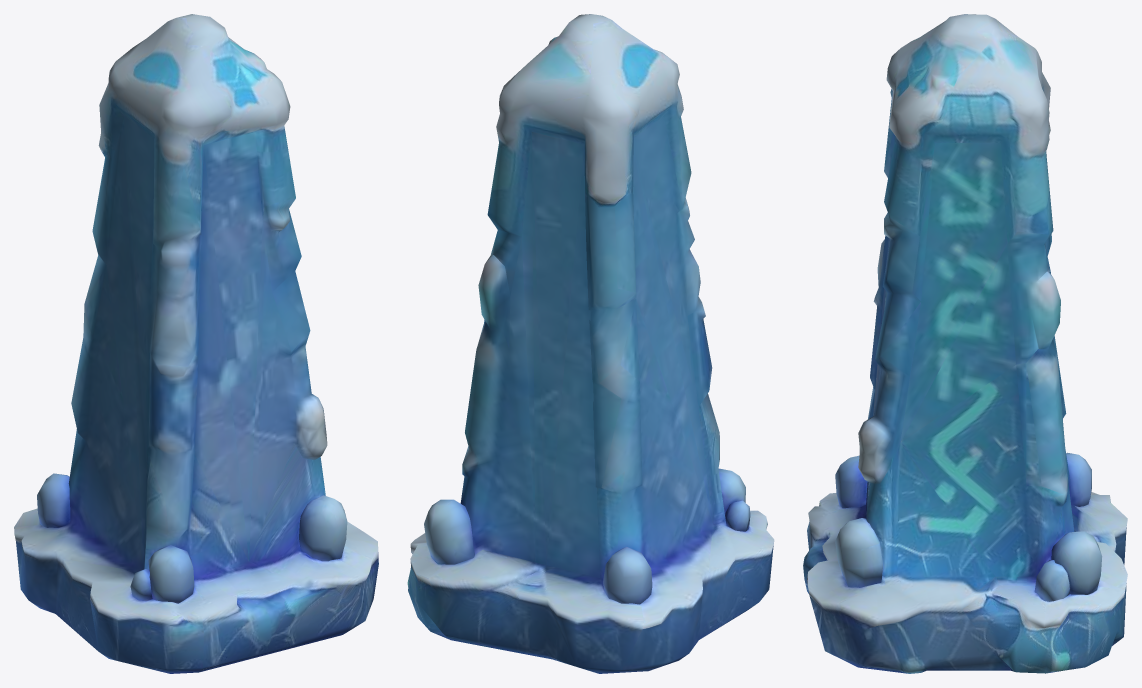
Rendered from obelisk.glb.
The picture shows the model from 3 angles, left to right: view 1: azimuth 30°, elevation 25°; view 2: azimuth 150°, elevation 25°; view 3: azimuth 270°, elevation 25°; orthographic projection.
Parts seen in each view (by area): view 1: tripo_node_bf673529-c9ee-49c2-86c8-d97aa129278e; view 2: tripo_node_bf673529-c9ee-49c2-86c8-d97aa129278e; view 3: tripo_node_bf673529-c9ee-49c2-86c8-d97aa129278e.
Boxes of the visible parts, x1,y1,x2,y2 form: tripo_node_bf673529-c9ee-49c2-86c8-d97aa129278e: [14, 14, 378, 673]; tripo_node_bf673529-c9ee-49c2-86c8-d97aa129278e: [407, 14, 774, 673]; tripo_node_bf673529-c9ee-49c2-86c8-d97aa129278e: [803, 14, 1127, 673].
Bounding box in the file's own units: 0.498 × 0.998 × 0.4941.
Materials: 1 (1 with a texture image).
